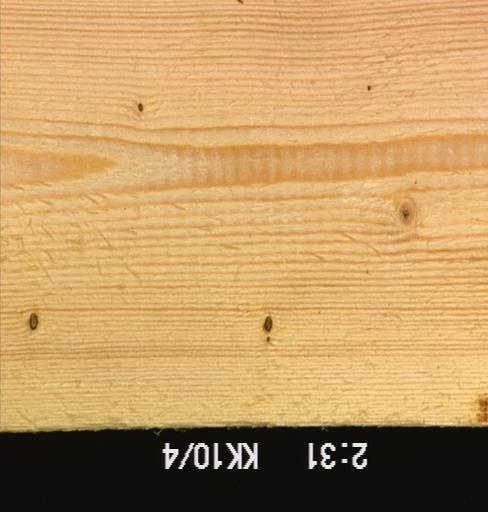dry_knot: (259, 310, 276, 336), (25, 311, 42, 333)
small_knot: (134, 98, 148, 116)
sound_knot: (390, 190, 421, 229)
